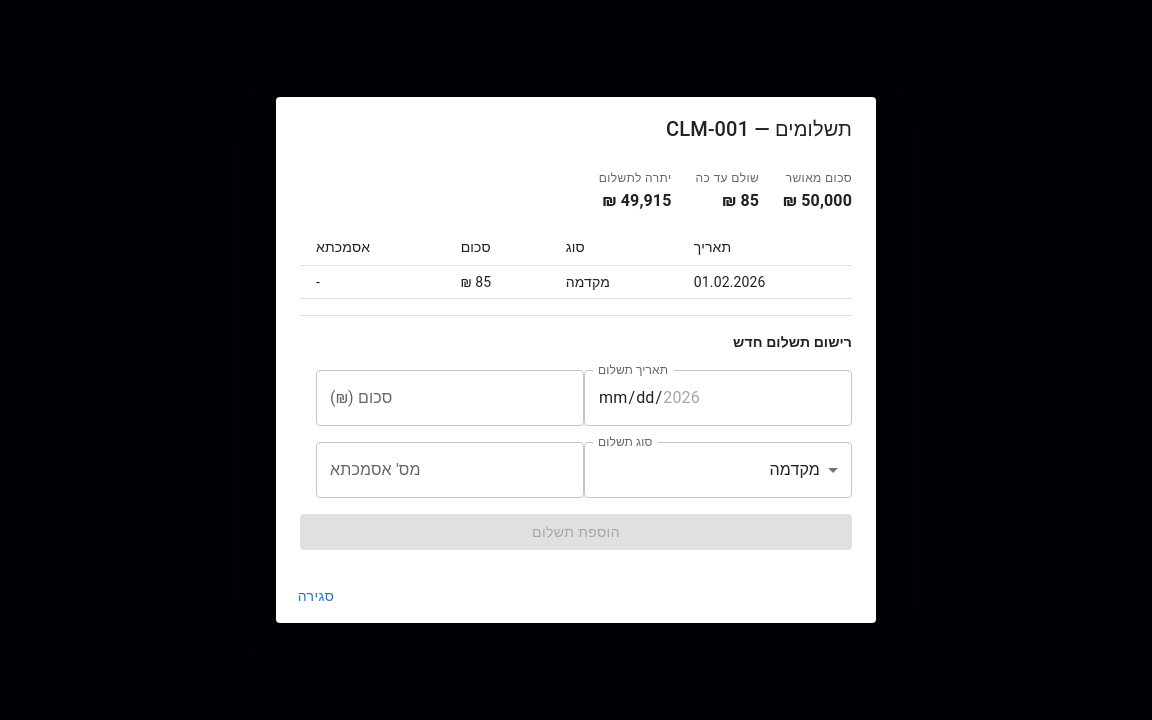
Test: ClaimPaymentsDialog — payment rules › blocks a payment dated before the incident
Type "2025-12-31" into the date field labelled "תאריך תשלום" at (718, 398), box [584,370,852,426]
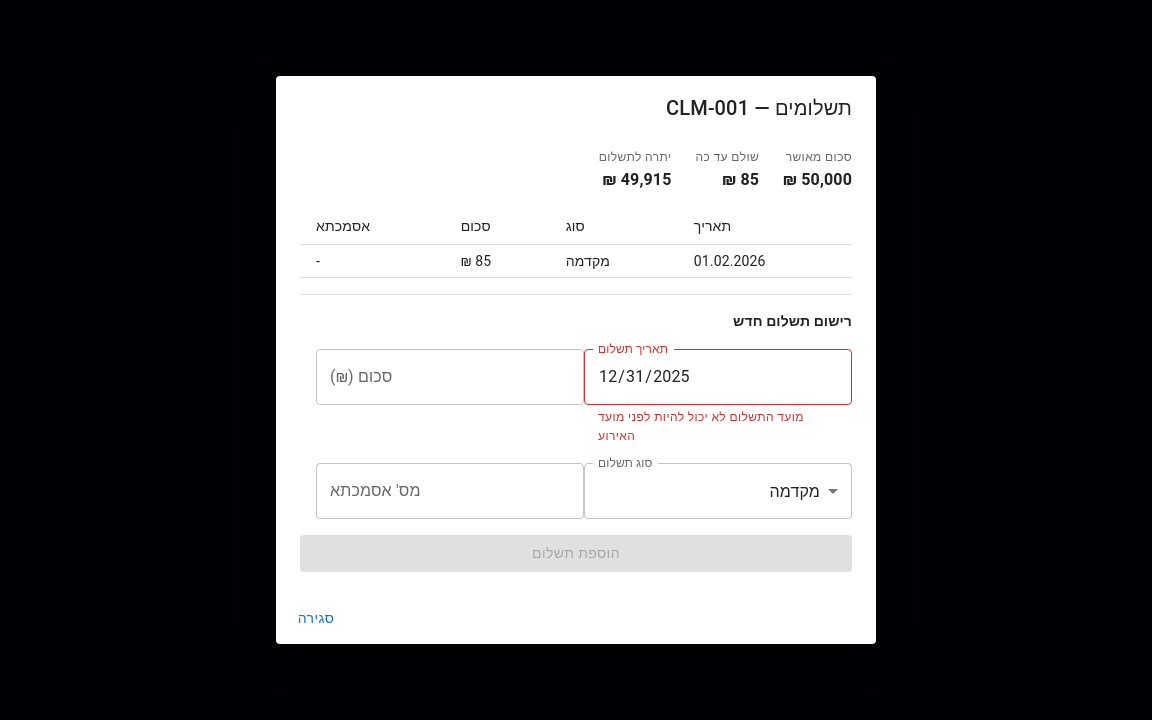
Expected: the text "מועד התשלום לא יכול להיות לפני מועד האירוע" is shown, [598,408,838,447]
